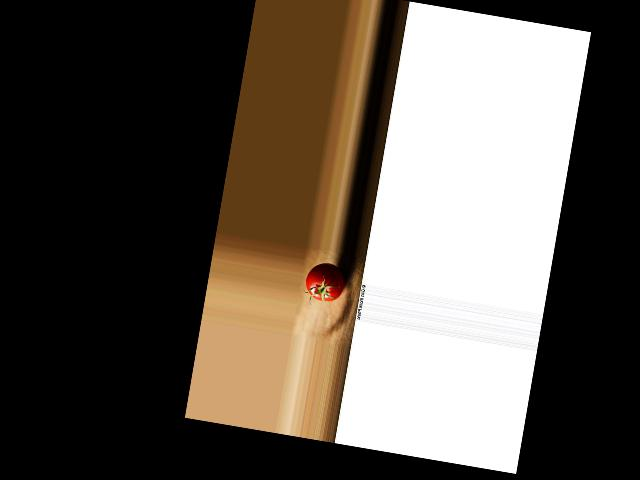tomato: (304, 260, 347, 304)
